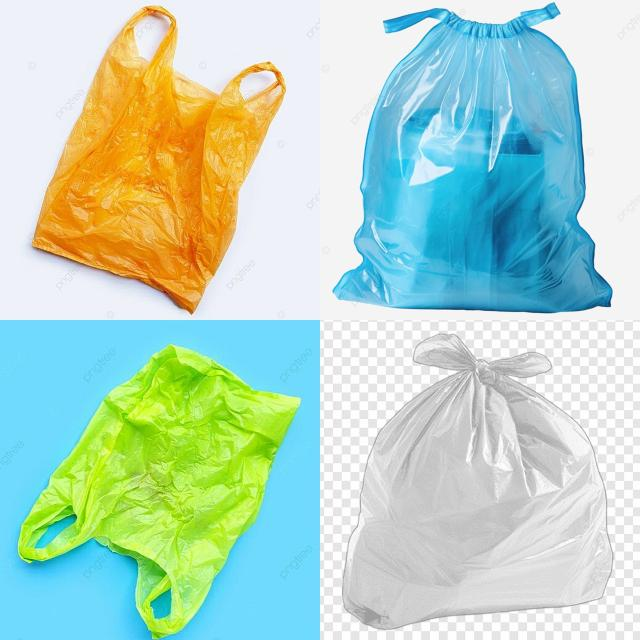Single-layer Plastic: (334, 5, 611, 312), (18, 345, 300, 639), (342, 335, 612, 629), (32, 6, 285, 312)
